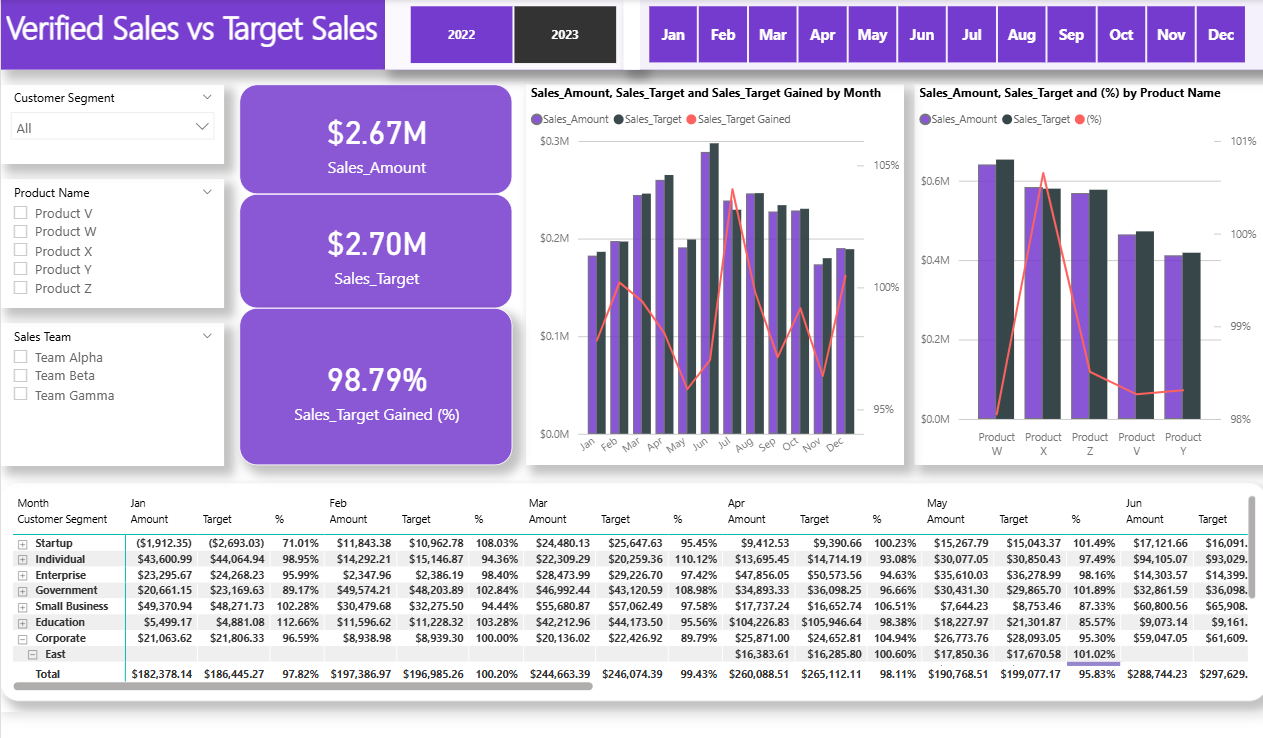

This screenshot's page, from the dashboard's own definition file:
{"tool":"powerbi","page":{"name":"Target_Sales","canvas":[1280,720],"ordinal":0},"visuals":[{"type":"textbox","box":[0,0,1278.8,71.6],"z":0},{"type":"slicer","fields":{"Values":["Date.Year"]},"box":[387.3,0,257.2,71.6],"z":1000},{"type":"slicer","fields":{"Values":["Date.Month Name Short"]},"box":[628.4,0,651.1,71.2],"z":2000},{"type":"slicer","fields":{"Values":["actual_vs_target_sales_dataset.Customer Segment"]},"box":[0,86.3,225.6,80.3],"z":3000},{"type":"slicer","fields":{"Values":["actual_vs_target_sales_dataset.Product Name"]},"box":[0,181.7,225.6,130.2],"z":4000},{"type":"slicer","fields":{"Values":["actual_vs_target_sales_dataset.Sales Team"]},"box":[0,327.1,225.6,143.8],"z":5000},{"type":"card","fields":{"Values":["actual_vs_target_sales_dataset.Sales_Amount"]},"box":[240.8,86.3,275.6,110.5],"z":6000},{"type":"card","fields":{"Values":["actual_vs_target_sales_dataset.Sales_Target"]},"box":[240.8,196.8,275.6,115.1],"z":7000},{"type":"card","fields":{"Values":["actual_vs_target_sales_dataset.Sales_Target Gained (%)"]},"box":[240.8,311.9,275.6,159],"z":8000},{"type":"lineClusteredColumnComboChart","fields":{"Y":["actual_vs_target_sales_dataset.Sales_Amount","actual_vs_target_sales_dataset.Sales_Target"],"Y2":["actual_vs_target_sales_dataset.Sales_Target Gained (%)"],"Category":["Date.Month Name Short"]},"box":[530,85.7,381.4,384.3],"z":9000},{"type":"lineClusteredColumnComboChart","fields":{"Y":["actual_vs_target_sales_dataset.Sales_Amount","actual_vs_target_sales_dataset.Sales_Target"],"Y2":["actual_vs_target_sales_dataset.Sales_Target Gained (%)"],"Category":["actual_vs_target_sales_dataset.Product Name"]},"box":[921.4,85.7,358.6,384.3],"z":10000},{"type":"pivotTable","fields":{"Rows":["actual_vs_target_sales_dataset.Customer Segment","actual_vs_target_sales_dataset.Region","actual_vs_target_sales_dataset.Sales Team"],"Values":["actual_vs_target_sales_dataset.Sales_Amount","actual_vs_target_sales_dataset.Sales_Target","actual_vs_target_sales_dataset.Sales_Target Gained (%)"],"Columns":["Date.Month Name Short","Date.Quarter Name"]},"box":[0,489.1,1278,219.6],"z":11000}]}

Visuals, with their boxes on the page's 1280x720 design canvas (x1, y1, x2, y2). These are canvas units, not pixel positions in the 1263x738 screenshot, which may show the page scaled, cropped or inside an application window:
textbox: (left=0, top=0, right=1279, bottom=72)
slicer - Date.Year: (left=387, top=0, right=644, bottom=72)
slicer - Date.Month Name Short: (left=628, top=0, right=1280, bottom=71)
slicer - actual_vs_target_sales_dataset.Customer Segment: (left=0, top=86, right=226, bottom=167)
slicer - actual_vs_target_sales_dataset.Product Name: (left=0, top=182, right=226, bottom=312)
slicer - actual_vs_target_sales_dataset.Sales Team: (left=0, top=327, right=226, bottom=471)
card - actual_vs_target_sales_dataset.Sales_Amount: (left=241, top=86, right=516, bottom=197)
card - actual_vs_target_sales_dataset.Sales_Target: (left=241, top=197, right=516, bottom=312)
card - actual_vs_target_sales_dataset.Sales_Target Gained (%): (left=241, top=312, right=516, bottom=471)
lineClusteredColumnComboChart - actual_vs_target_sales_dataset.Sales_Amount x actual_vs_target_sales_dataset.Sales_Target: (left=530, top=86, right=911, bottom=470)
lineClusteredColumnComboChart - actual_vs_target_sales_dataset.Sales_Amount x actual_vs_target_sales_dataset.Sales_Target: (left=921, top=86, right=1280, bottom=470)
pivotTable - actual_vs_target_sales_dataset.Customer Segment x actual_vs_target_sales_dataset.Region: (left=0, top=489, right=1278, bottom=709)
